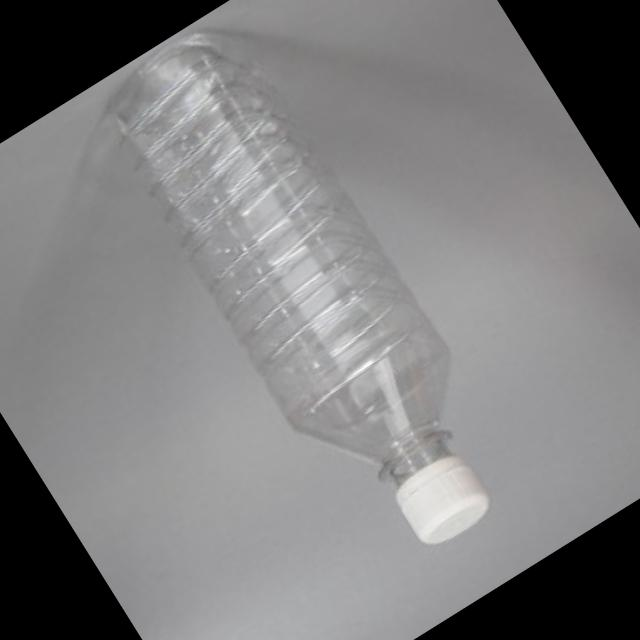BotolPlastik: (84, 4, 538, 582)
